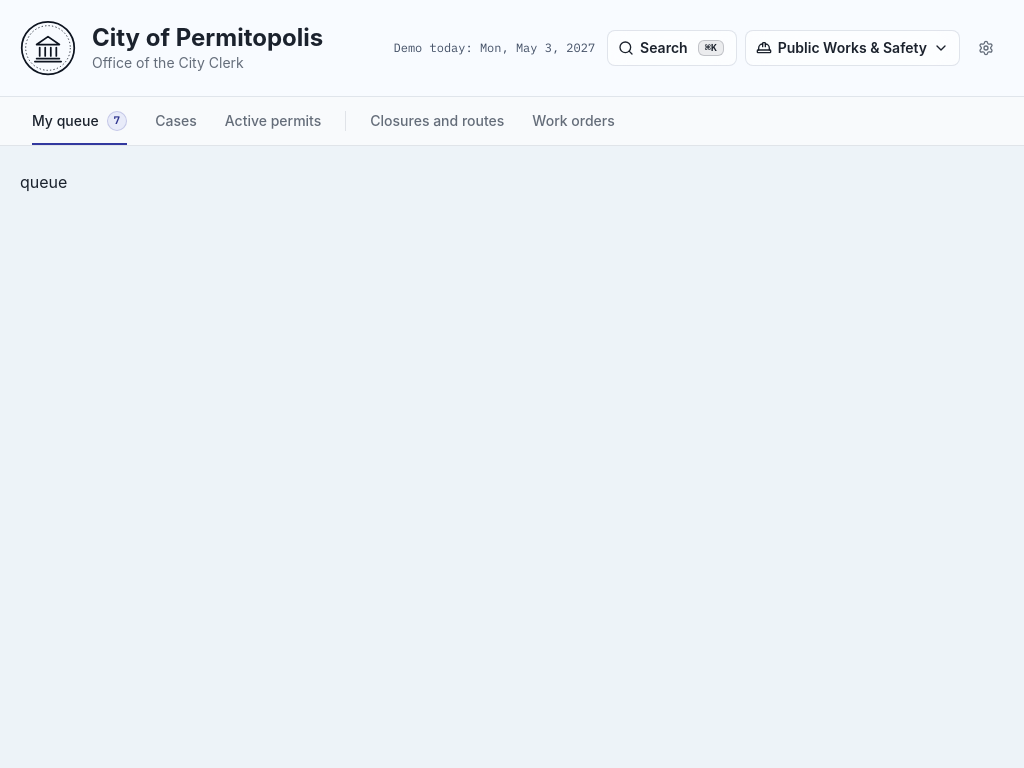
Test: the app header › the user button names who is acting: the city role, or the applicant
Click the button with aria-label "Switch user: ". click: (852, 48)
box: [745,30,960,66]
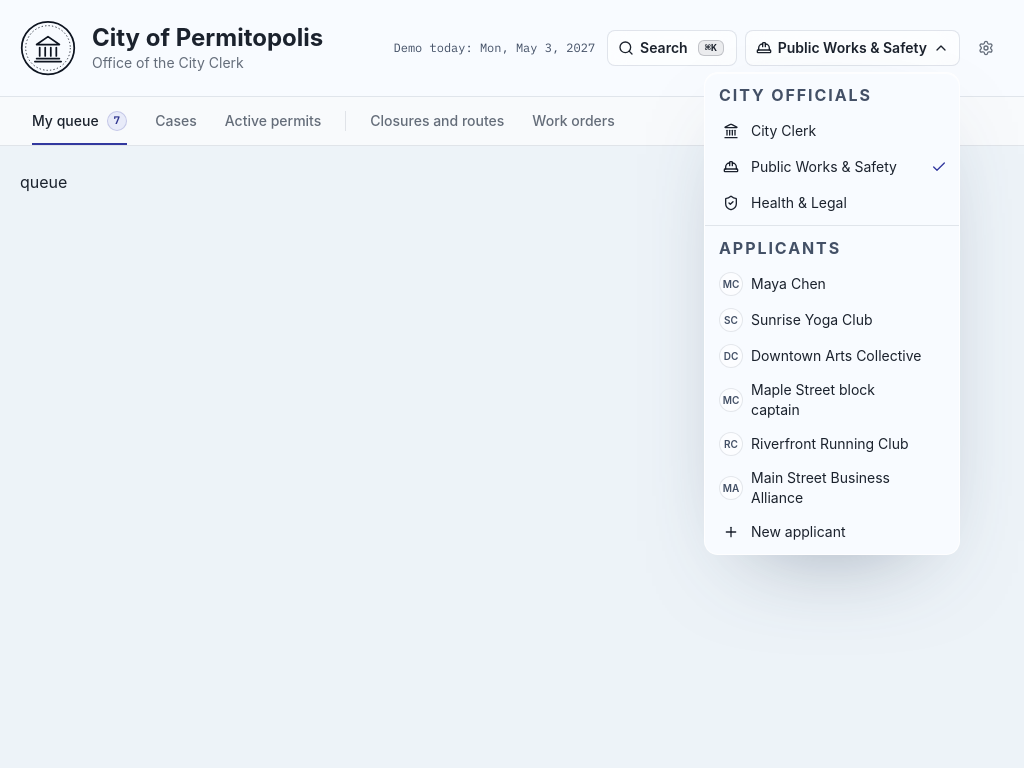
Click the menu item "MC Maya Chen". click: (772, 284)
box: [719,272,826,296]
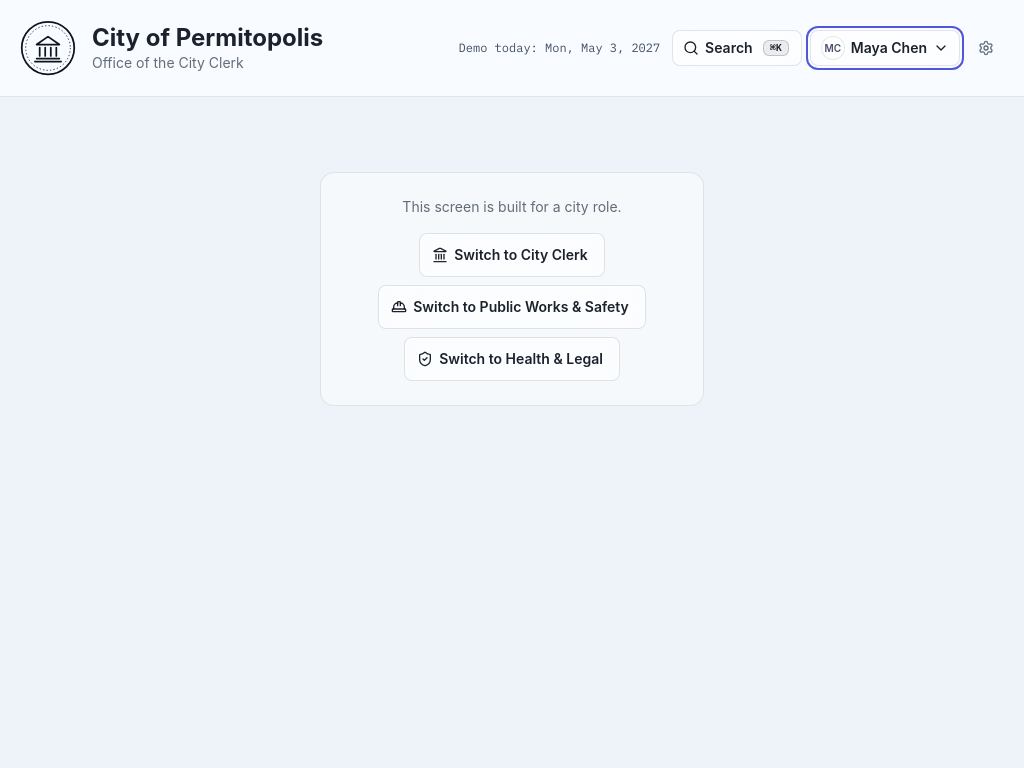
Check: the button with aria-label "Switch user: Maya Chen" shows "Maya Chen", box [810,30,960,66]
